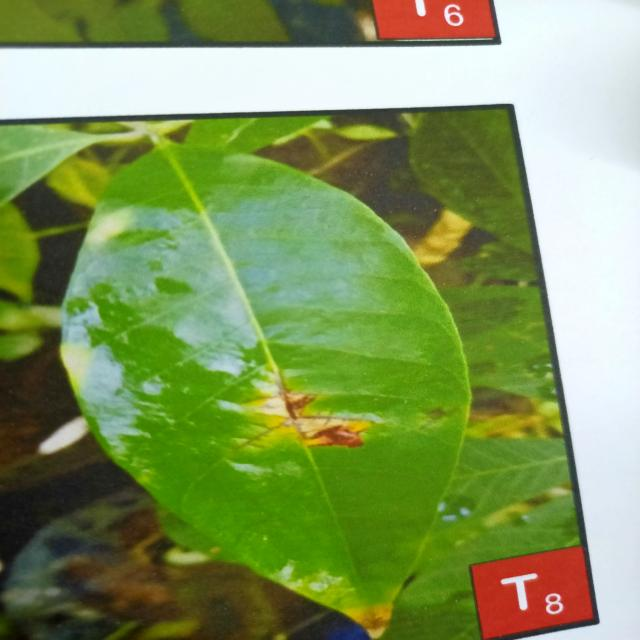Corynespora: (278, 381, 367, 448), (233, 420, 290, 454)
